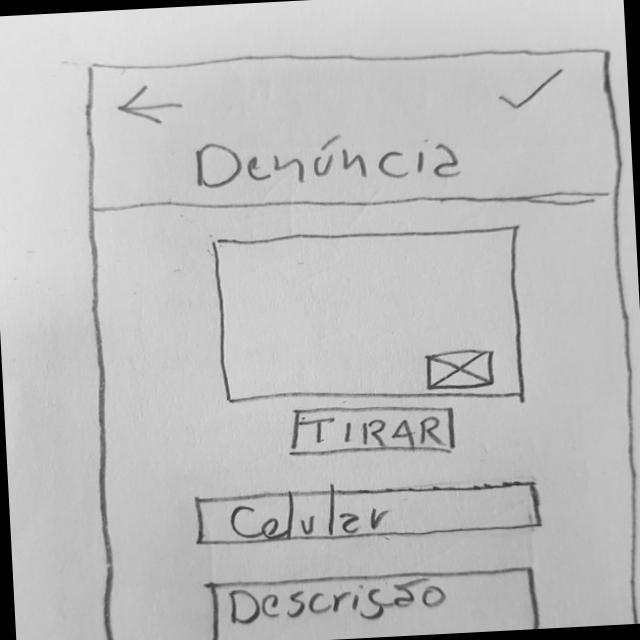button: (189, 474, 559, 554), (189, 563, 548, 640), (285, 398, 467, 465)
container: (71, 175, 640, 640), (83, 33, 635, 227), (210, 219, 540, 416)
icon-button: (481, 64, 584, 114), (110, 80, 195, 132)
image: (422, 346, 505, 396)
label: (189, 122, 474, 199)
